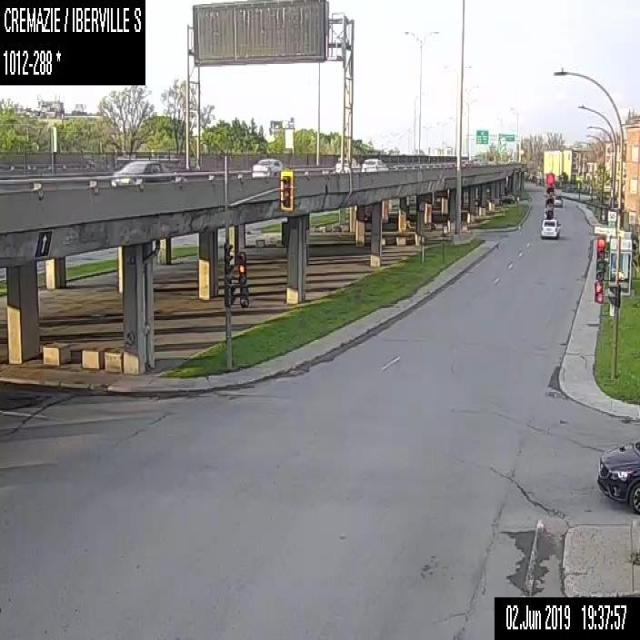vehicle: (596, 440, 639, 515), (110, 157, 176, 186), (251, 156, 288, 177), (361, 157, 388, 173), (539, 218, 560, 238), (334, 156, 359, 172), (498, 193, 515, 204), (553, 196, 562, 207)
